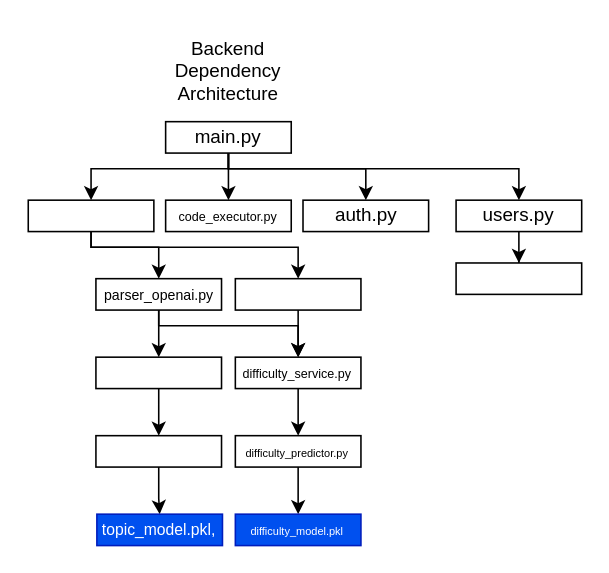
The diagram is 609 pixels wide and 573 high, and some of its shapes have lost their labels. The shapes that lost their labels are listed below. From the top down, each one's box as (x1, y1, x2, y2) in pixels, then its label:
(27, 199, 154, 232): ai_models.py
(234, 277, 361, 310): parser_ollama.py
(455, 261, 582, 294): db.py
(94, 356, 222, 389): tag_service.py
(94, 434, 222, 467): predict.py
